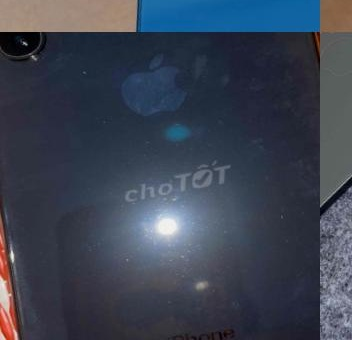scratch: (13, 164, 320, 340), (152, 116, 233, 171), (78, 105, 132, 157), (112, 146, 160, 180), (33, 32, 61, 55), (140, 133, 166, 152), (71, 66, 91, 85)
